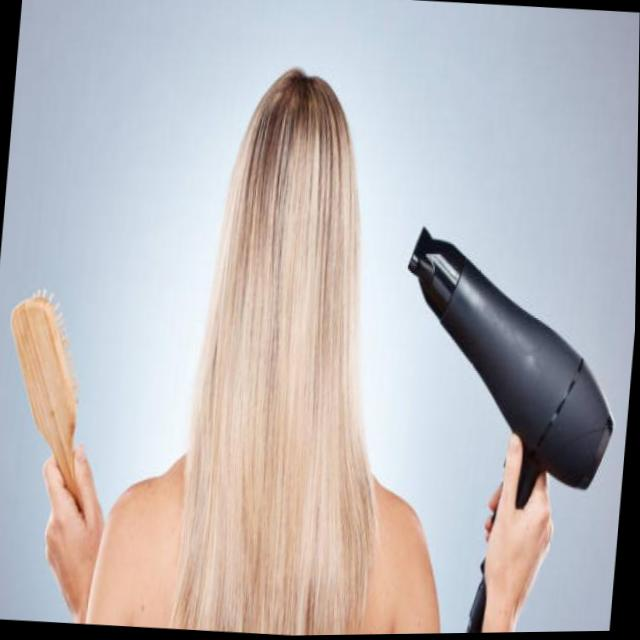no helmet: (207, 73, 377, 335)
